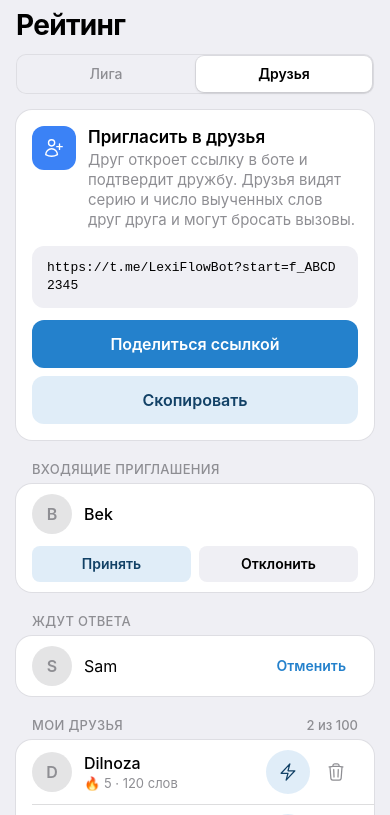
it: FriendsView › challenges › proposes one: pick the metric (tinted buttons), send, see it in the list
The width and height of the screenshot is (390, 815).
Click the 1st button with test id "challenge-btn" at (288, 772), box [266,750,310,794]
(page scrolled)
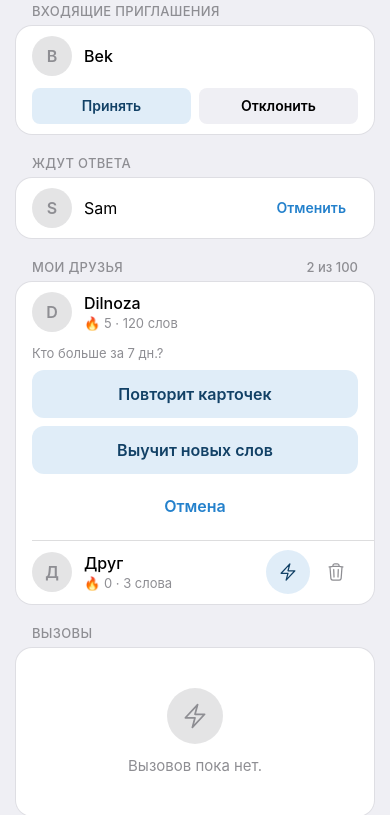
Check: the element with test id "metric-picker" shows "Кто больше за 7 дн.?", box [32,345,164,361]
Click the button with test id "metric-new_words" at (195, 450), box [32,426,358,474]
(page scrolled)
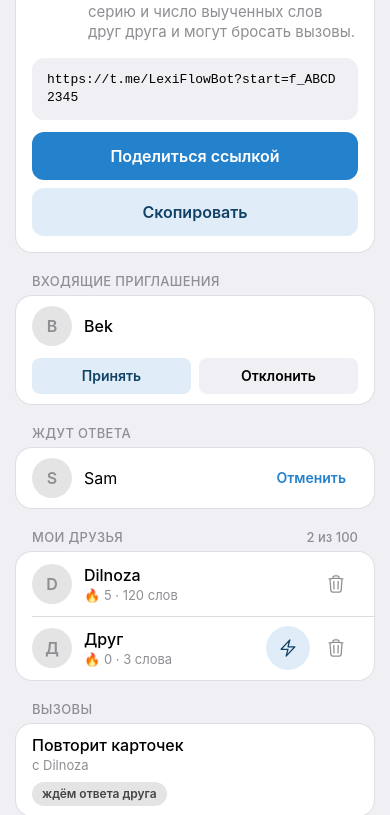
Check: the number of buttons with test id "challenge-btn" is 1, box [266,626,310,670]
Check: the text with test id "challenge-status" reads "ждём ответа друга", box [42,786,157,801]
